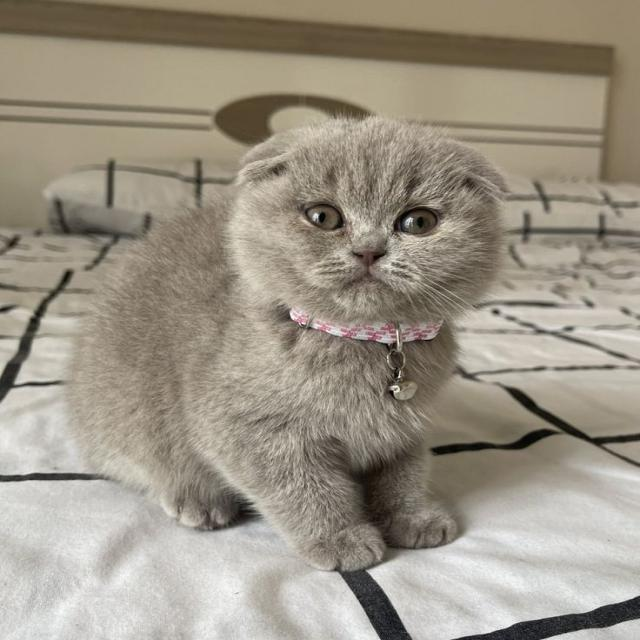british shorthair: (19, 65, 588, 605)
